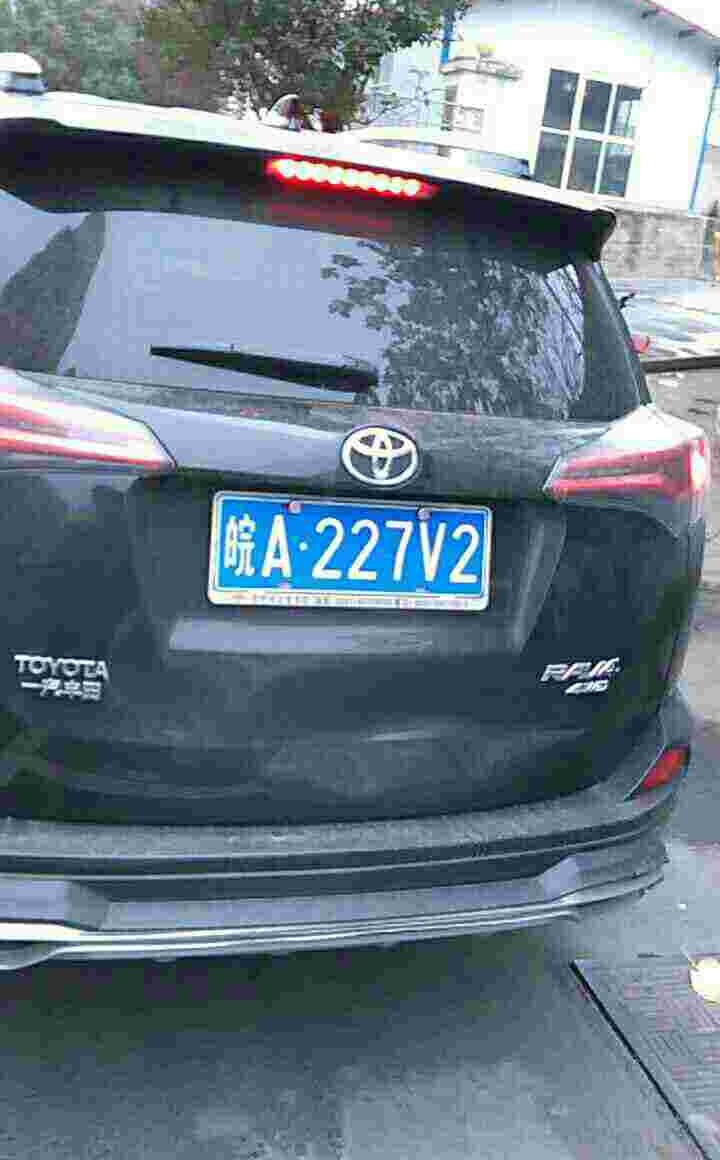car: (219, 472, 503, 612)
